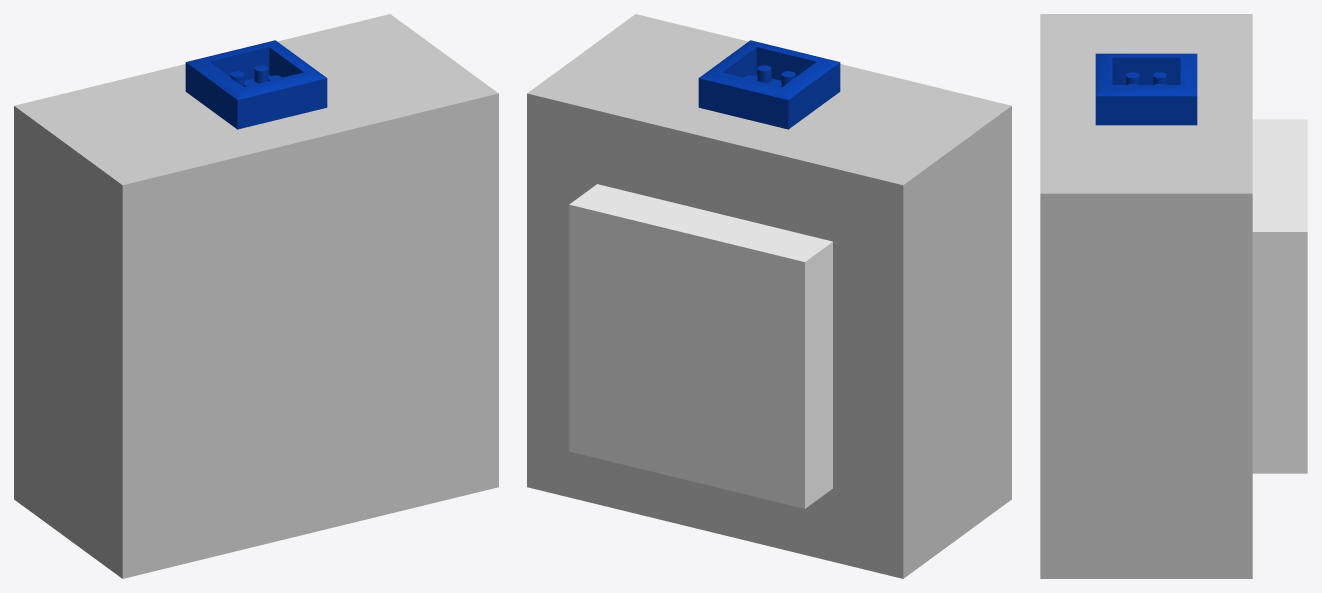
File: Button.gltf
3 renders of one model, left to right at view 1: azimuth 30°, elevation 25°; view 2: azimuth 150°, elevation 25°; view 3: azimuth 270°, elevation 25°, orthographic. The views are drawn at different scales.
Parts seen in each view (by area): view 1: Cube; view 2: Cube; view 3: Cube.
Boxes of the visible parts, <box> form: Cube: <box>14,14,498,578</box>; Cube: <box>527,14,1011,578</box>; Cube: <box>1040,14,1307,578</box>.
Size of the model in its own units: 0.25 by 0.2706 by 0.1573.
